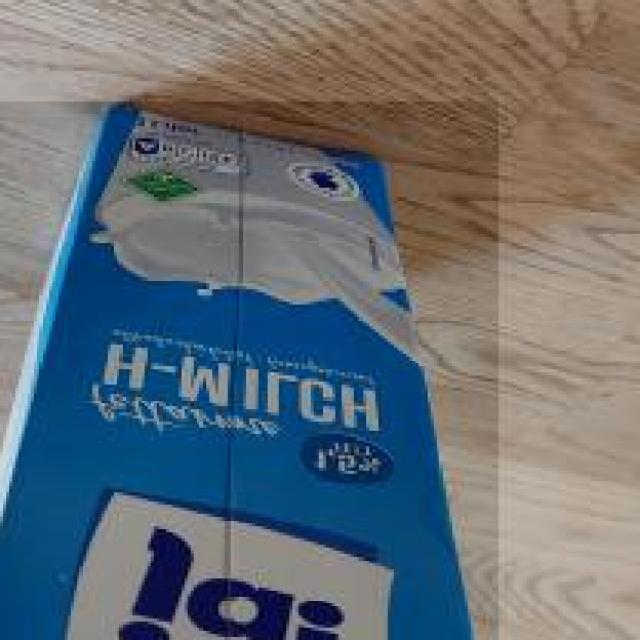milk: (0, 95, 502, 640)
